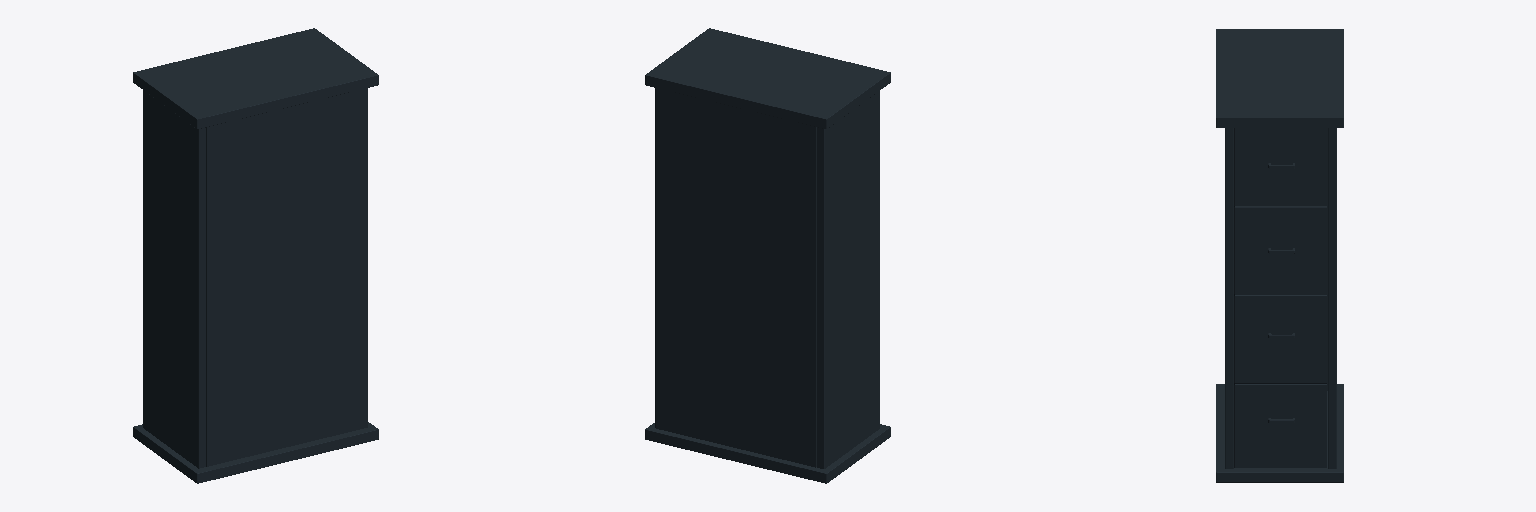
The model's file is ThinDrawer.obj.
3 renders of one model, left to right at view 1: azimuth 30°, elevation 25°; view 2: azimuth 150°, elevation 25°; view 3: azimuth 270°, elevation 25°, orthographic.
Visible parts, largest first — view 1: pCube15, pCube4, pCube17; view 2: pCube15, pCube4, pCube17; view 3: pCube9, pCube17, pCube15.
Boxes of the visible parts, x1=… form: pCube15: x1=206, y1=88, x2=367, y2=466; pCube4: x1=143, y1=90, x2=205, y2=468; pCube17: x1=133, y1=28, x2=378, y2=483; pCube15: x1=655, y1=88, x2=816, y2=467; pCube4: x1=817, y1=91, x2=879, y2=468; pCube17: x1=645, y1=28, x2=890, y2=483; pCube9: x1=1234, y1=128, x2=1326, y2=467; pCube17: x1=1216, y1=29, x2=1343, y2=482; pCube15: x1=1225, y1=128, x2=1336, y2=468.
Size of the model in its own units: 58.56 by 112 by 35.91.